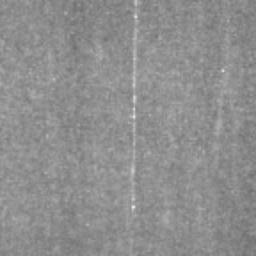Bright scratch: (131, 0, 138, 212)
